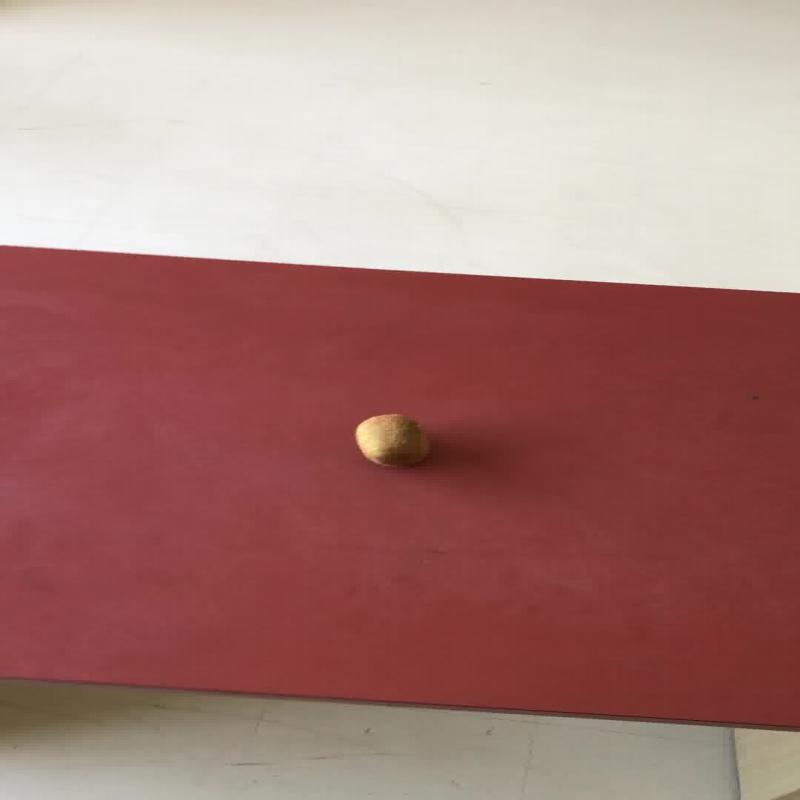kiwi: (353, 412, 430, 466)
